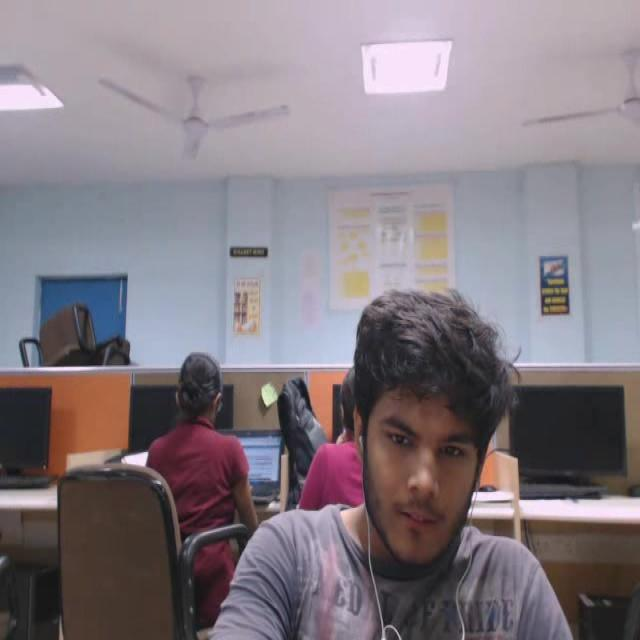Engaged: (344, 247, 531, 610)
